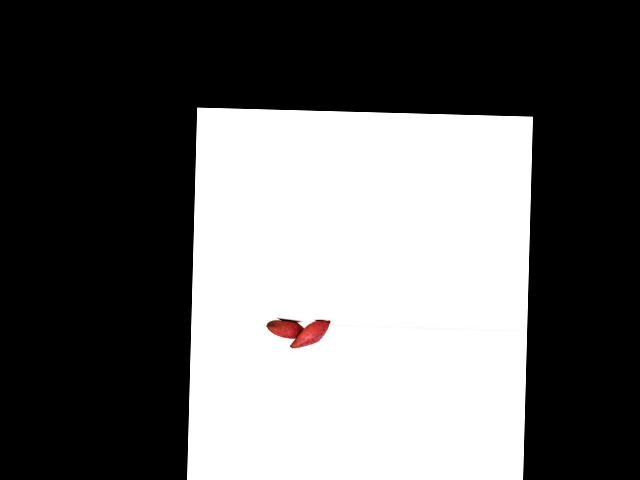sweet_potato: (264, 319, 307, 341)
